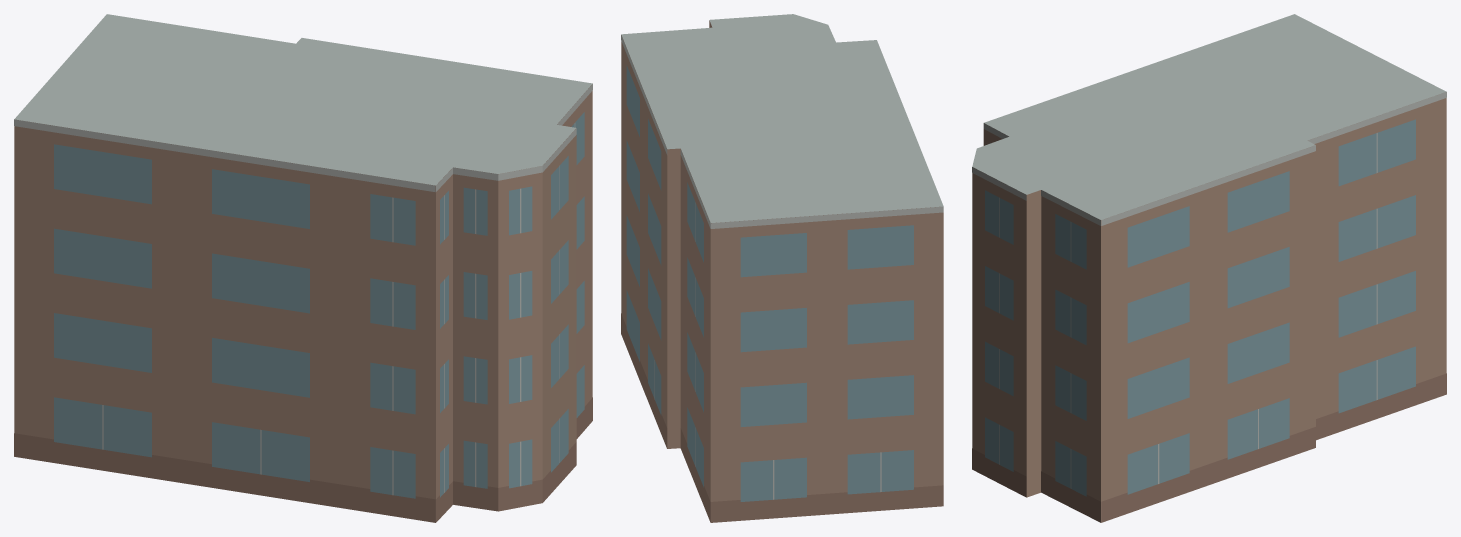
The model's file is survey-upis-32843994.glb.
3 views of the same model, side by side, from view 1: azimuth 30°, elevation 25°; view 2: azimuth 150°, elevation 25°; view 3: azimuth 270°, elevation 25° (orthographic). The views are drawn at different scales.
Parts seen in each view (by area): view 1: survey-upis-32843994.tmp; view 2: survey-upis-32843994.tmp; view 3: survey-upis-32843994.tmp.
Part boxes in pixels (x1,y1,x2,y2): survey-upis-32843994.tmp: (14, 14, 592, 522); survey-upis-32843994.tmp: (621, 14, 943, 522); survey-upis-32843994.tmp: (972, 14, 1446, 522).
Size of the model in its own units: 17.83 by 12.2 by 17.34.
